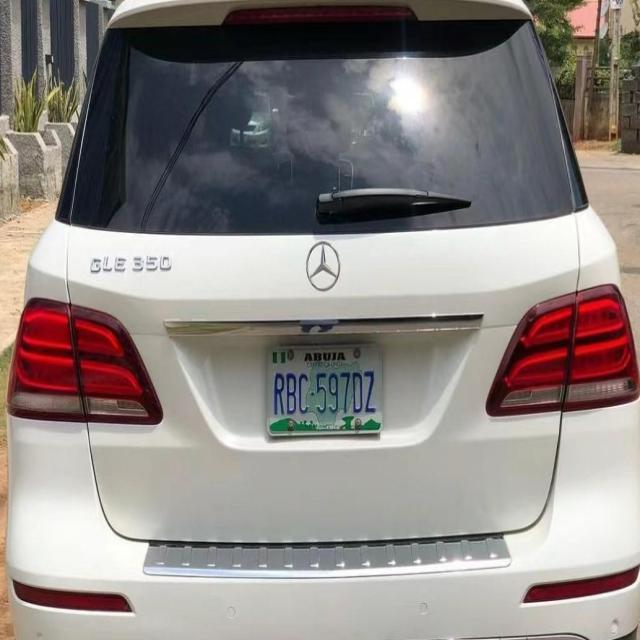Nigerian License Plate - vdataset benjamin-daria: (262, 334, 386, 438)
